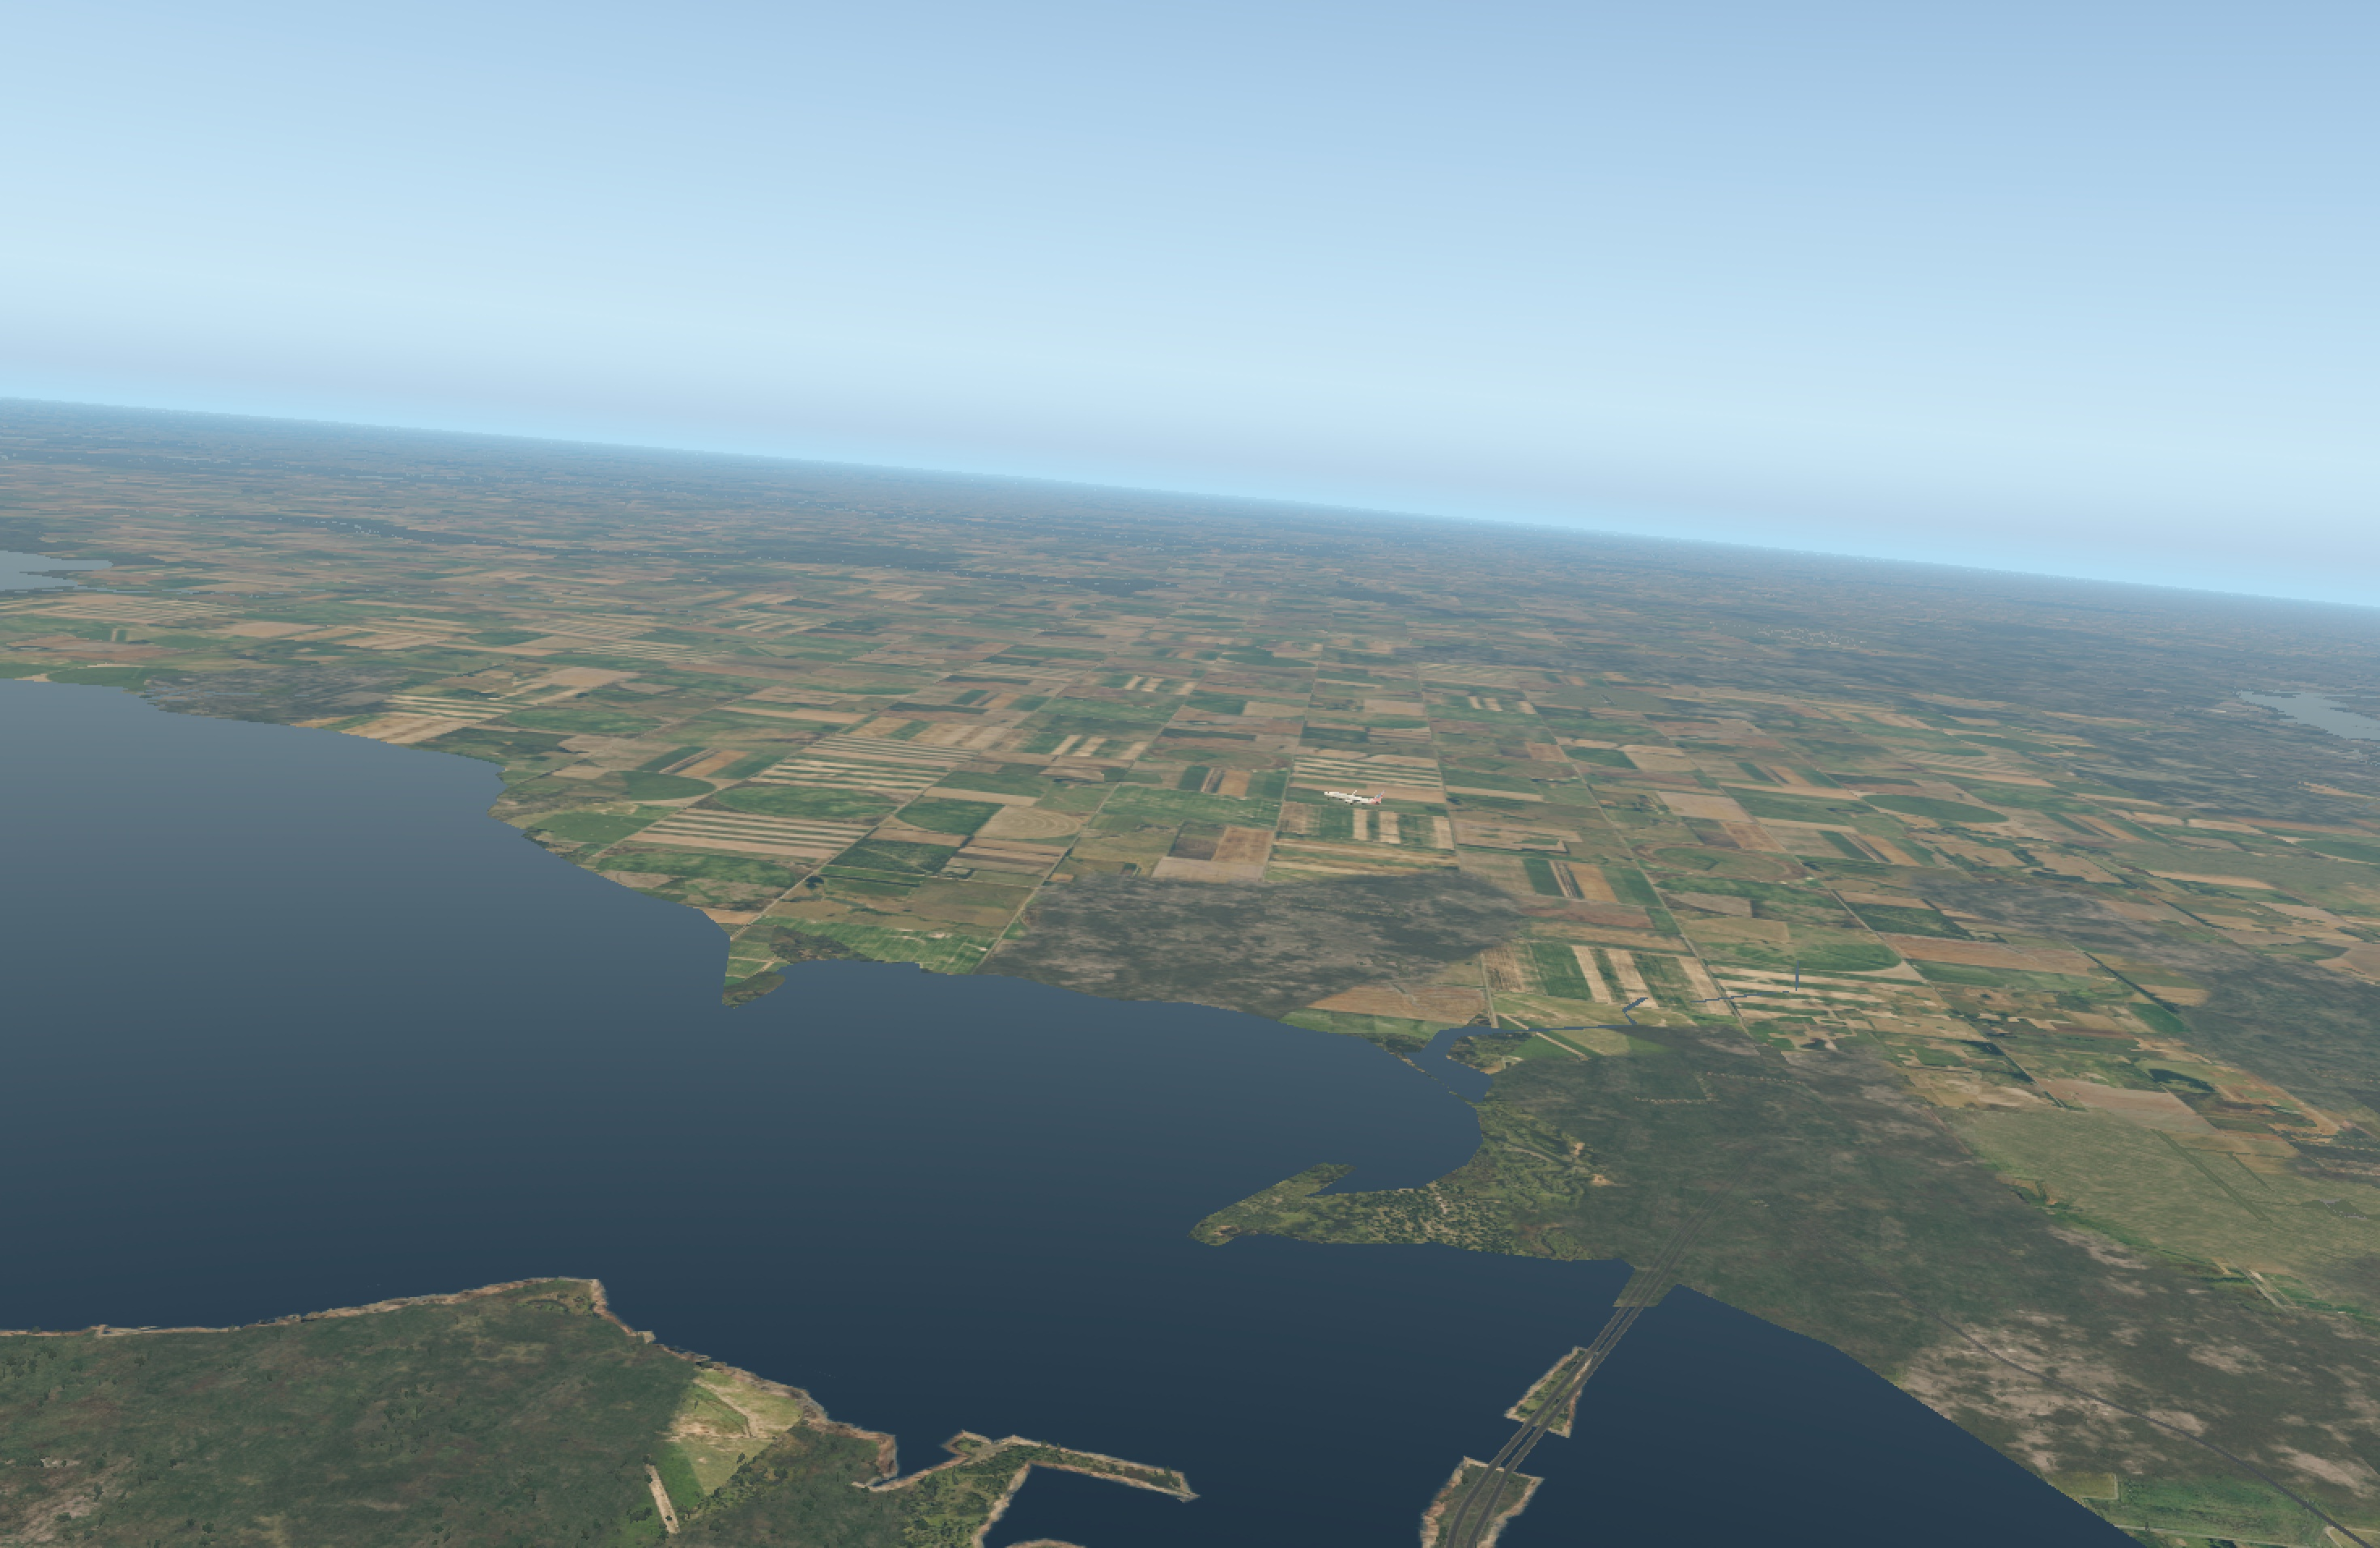aircraft: (1320, 788, 1383, 810)
